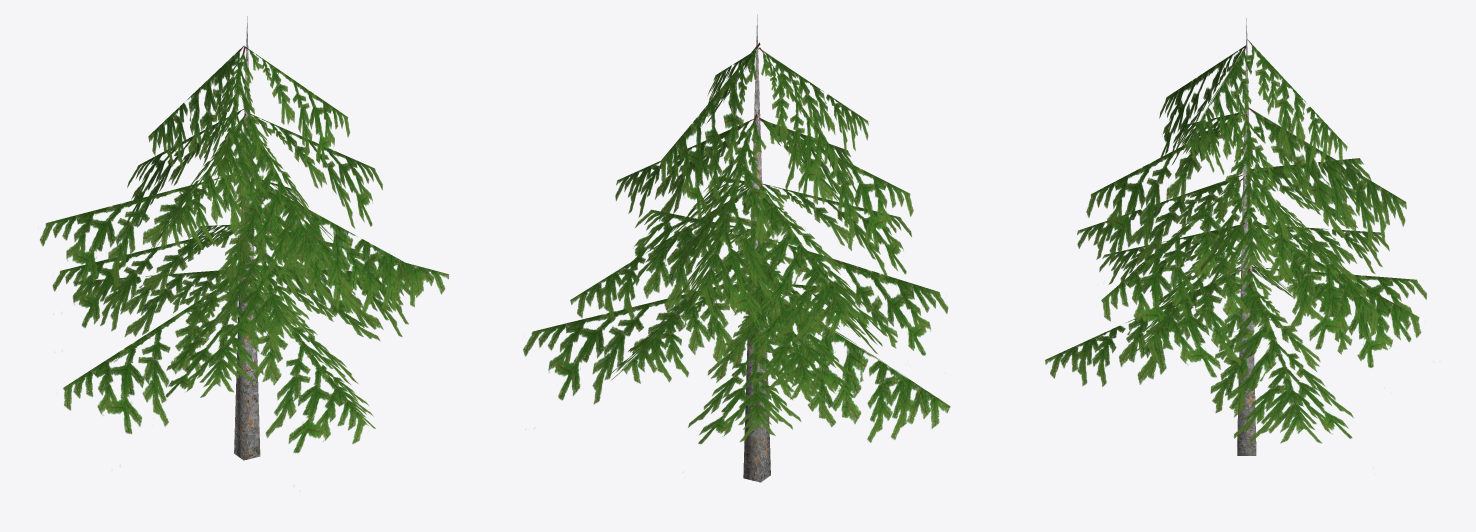
Rendered from stklib_pintree_c_med.glb.
3 views of the same model, side by side, from view 1: azimuth 30°, elevation 25°; view 2: azimuth 150°, elevation 25°; view 3: azimuth 270°, elevation 25° (orthographic). The views are drawn at different scales.
Parts seen in each view (by area): view 1: stklib_pinetree_c.png__, stktex_treebark_c.jpg__; view 2: stklib_pinetree_c.png__, stktex_treebark_c.jpg__; view 3: stklib_pinetree_c.png__, stktex_treebark_c.jpg__.
Boxes of the visible parts, <box> form: stklib_pinetree_c.png__: <box>40,45,448,452</box>; stktex_treebark_c.jpg__: <box>234,16,260,460</box>; stklib_pinetree_c.png__: <box>523,42,950,444</box>; stktex_treebark_c.jpg__: <box>743,14,770,482</box>; stklib_pinetree_c.png__: <box>1045,39,1426,443</box>; stktex_treebark_c.jpg__: <box>1237,18,1256,455</box>.
Size of the model in its own units: 8.86 by 9.27 by 8.28.
Materials: 2 (2 with a texture image).
